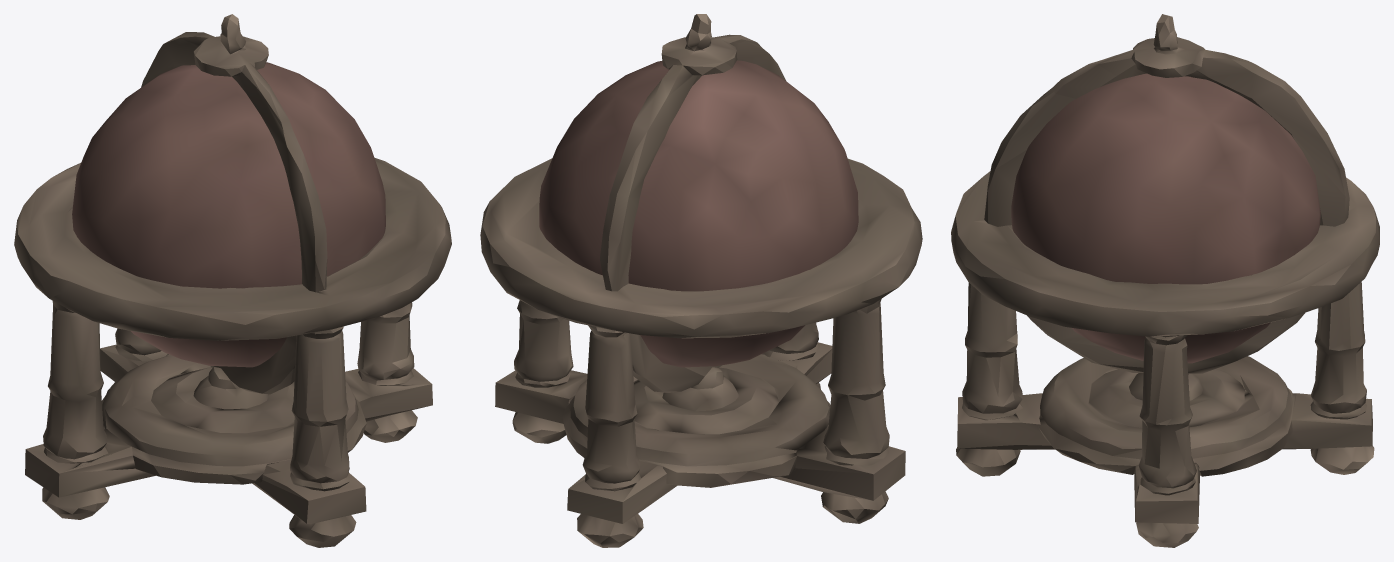
File: Globe01.fbx
The picture shows the model from 3 angles, left to right: view 1: azimuth 30°, elevation 25°; view 2: azimuth 150°, elevation 25°; view 3: azimuth 270°, elevation 25°; orthographic projection. The views are drawn at different scales.
Visible parts, largest first — view 1: GlobeFrame02, GlobeBody01; view 2: GlobeFrame02, GlobeBody01; view 3: GlobeFrame02, GlobeBody01.
Part boxes in pixels (x1,y1,x2,y2): GlobeFrame02: [14, 14, 451, 547]; GlobeBody01: [72, 62, 385, 367]; GlobeFrame02: [480, 14, 922, 547]; GlobeBody01: [539, 60, 858, 367]; GlobeFrame02: [951, 14, 1379, 547]; GlobeBody01: [1011, 73, 1320, 363].
Size of the model in its own units: 87.02 by 101 by 86.
